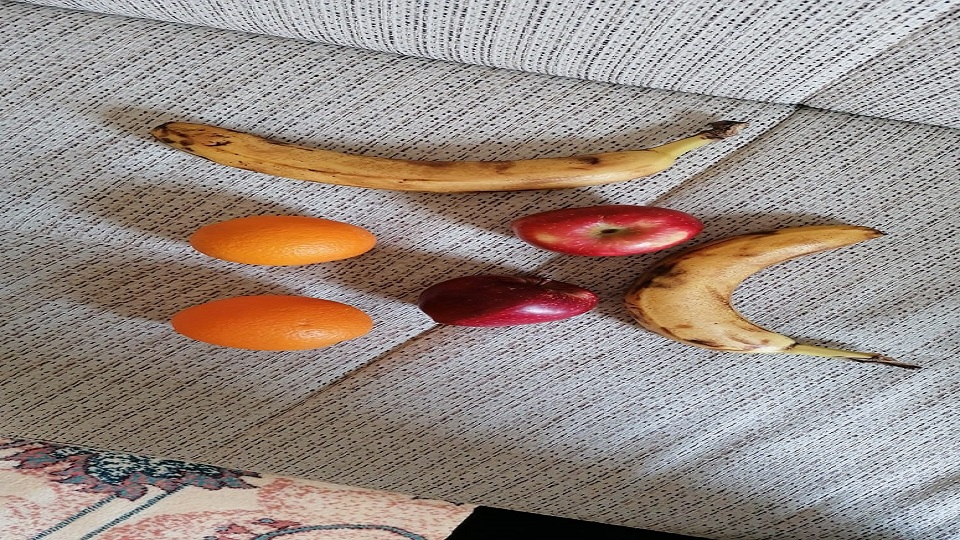elma: (512, 206, 704, 259), (418, 275, 599, 328)
muz: (151, 120, 748, 194), (623, 224, 889, 355)
portakal: (170, 294, 375, 353), (190, 215, 379, 266)
